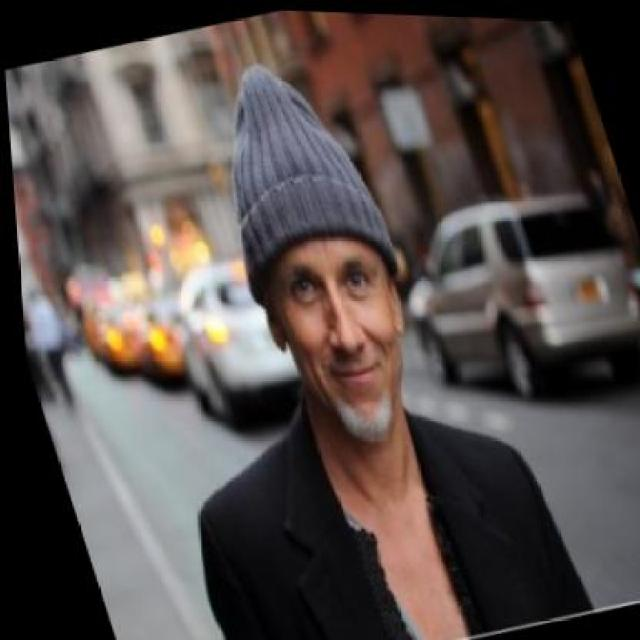hat: (176, 39, 404, 310)
